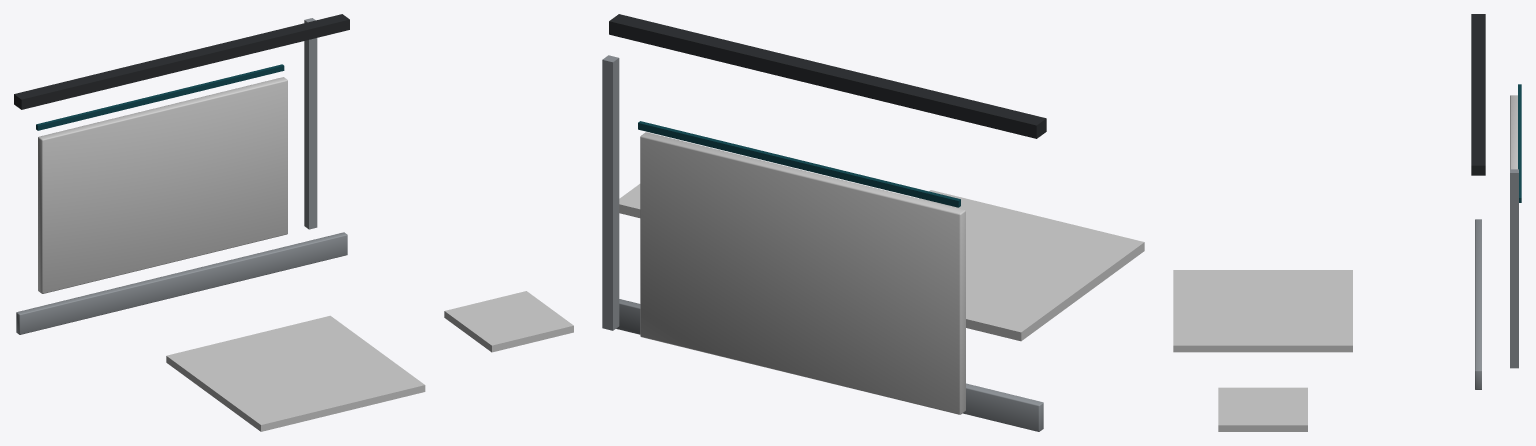
The model's file is hm_bank_trim_kit_v2.obj.
The picture shows the model from 3 angles, left to right: view 1: azimuth 30°, elevation 25°; view 2: azimuth 150°, elevation 25°; view 3: azimuth 270°, elevation 25°; orthographic projection. The views are drawn at different scales.
Parts seen in each view (by area): view 1: TR_Wainscot, TR_FloorTile, TR_Baseboard, TR_Cove, TR_AccentTile, TR_Corner, TR_Reveal; view 2: TR_Wainscot, TR_FloorTile, TR_Cove, TR_Corner, TR_Reveal, TR_Baseboard, TR_AccentTile; view 3: TR_FloorTile, TR_AccentTile, TR_Cove, TR_Corner, TR_Baseboard, TR_Wainscot, TR_Reveal.
Part boxes in pixels (bbox=[...]): TR_Wainscot: bbox=[38, 77, 287, 293]; TR_FloorTile: bbox=[166, 315, 425, 431]; TR_Baseboard: bbox=[16, 232, 347, 334]; TR_Cove: bbox=[14, 14, 349, 109]; TR_AccentTile: bbox=[444, 291, 573, 352]; TR_Corner: bbox=[304, 18, 317, 229]; TR_Reveal: bbox=[36, 64, 284, 130]; TR_Wainscot: bbox=[640, 132, 965, 414]; TR_FloorTile: bbox=[919, 190, 1144, 341]; TR_Cove: bbox=[609, 14, 1046, 138]; TR_Corner: bbox=[602, 55, 619, 330]; TR_Reveal: bbox=[638, 121, 960, 207]; TR_Baseboard: bbox=[616, 299, 1043, 431]; TR_AccentTile: bbox=[619, 184, 640, 217]; TR_FloorTile: bbox=[1173, 270, 1352, 352]; TR_AccentTile: bbox=[1218, 387, 1307, 431]; TR_Cove: bbox=[1471, 14, 1485, 175]; TR_Corner: bbox=[1510, 169, 1518, 368]; TR_Baseboard: bbox=[1475, 219, 1481, 389]; TR_Wainscot: bbox=[1510, 95, 1517, 169]; TR_Reveal: bbox=[1518, 84, 1521, 202].
Bounding box in the file's own units: 2.55 × 1.38 × 1.94.
